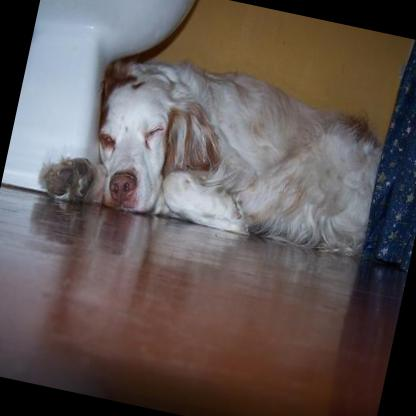Brittany_spaniel: (32, 29, 393, 264)
